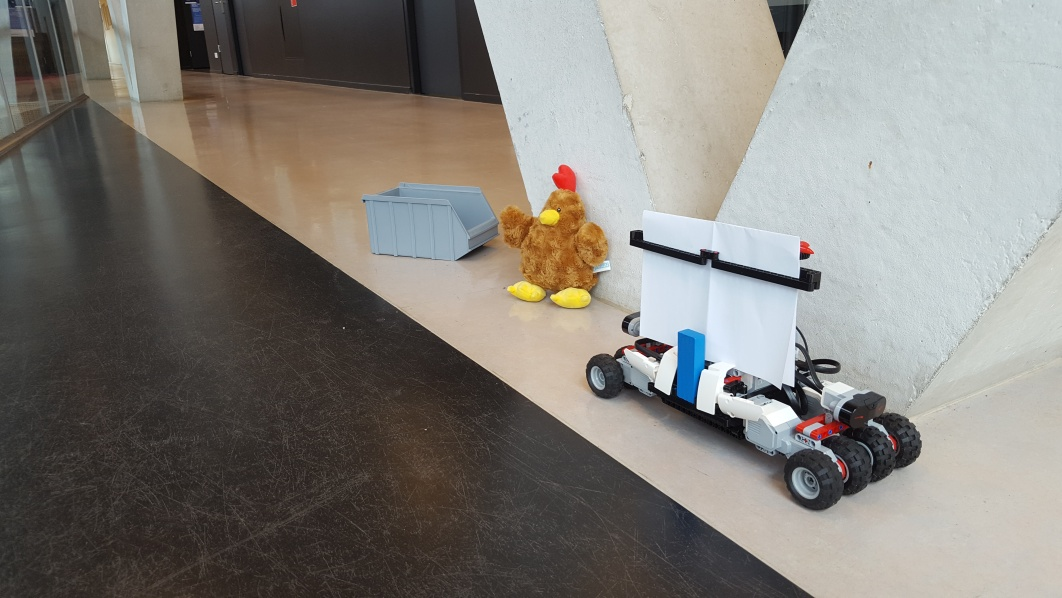beam: (675, 328, 706, 403)
chicken: (504, 165, 612, 312)
tray: (359, 180, 500, 263)
